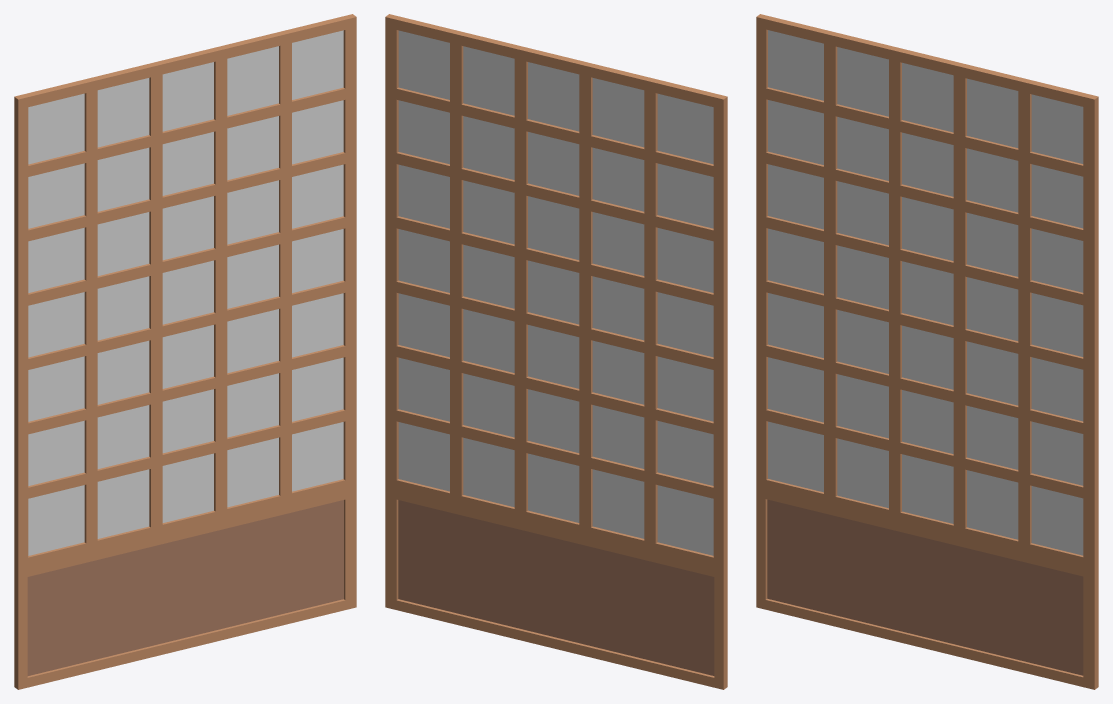
File: Wall2.fbx
3 renders of one model, left to right at view 1: azimuth 30°, elevation 25°; view 2: azimuth 150°, elevation 25°; view 3: azimuth 330°, elevation 25°, orthographic.
Parts seen in each view (by area): view 1: Wall2; view 2: Wall2; view 3: Wall2.
Part boxes in pixels (x1,y1,x2,y2): Wall2: [14, 14, 356, 689]; Wall2: [385, 14, 727, 689]; Wall2: [756, 14, 1098, 689].
Size of the model in its own units: 344 by 573 by 7.15.
